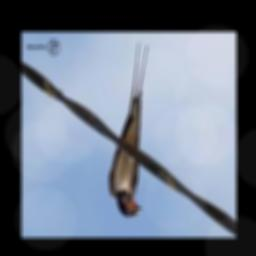Swallow: (108, 43, 148, 217)
